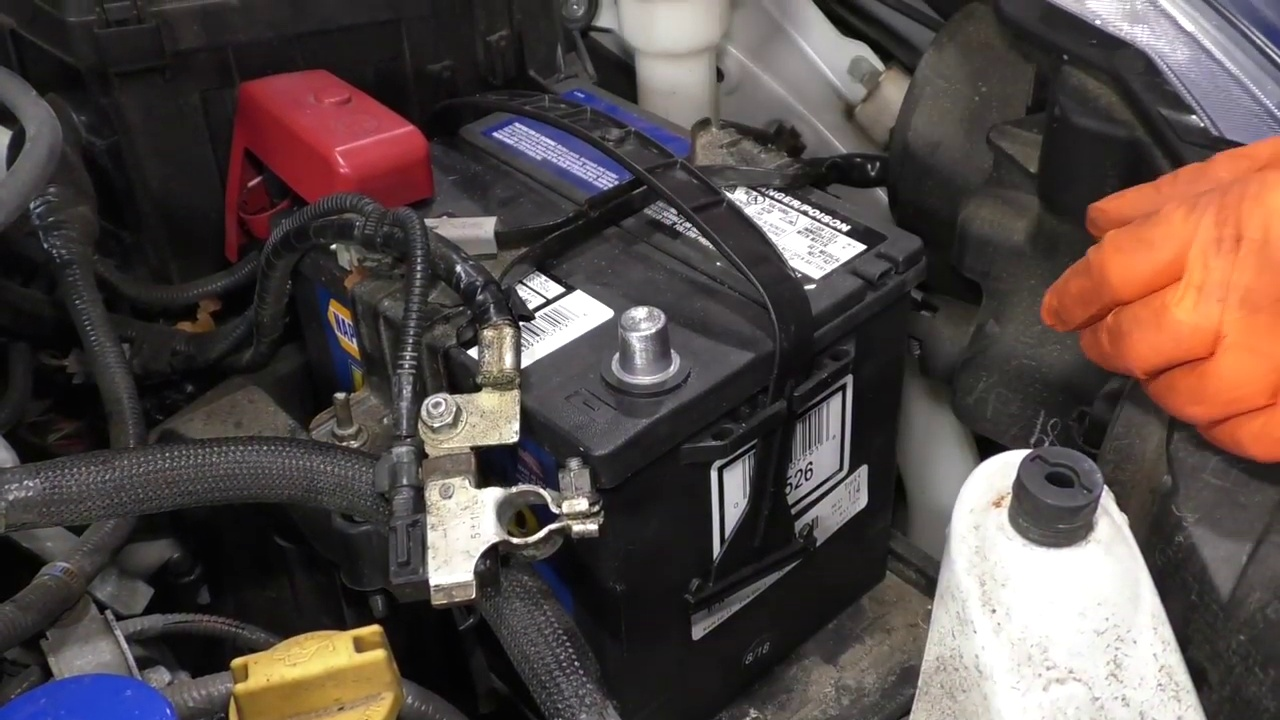battery: (275, 70, 921, 454)
neg_disconnected: (577, 275, 720, 418)
pos_connected: (202, 36, 448, 269)
